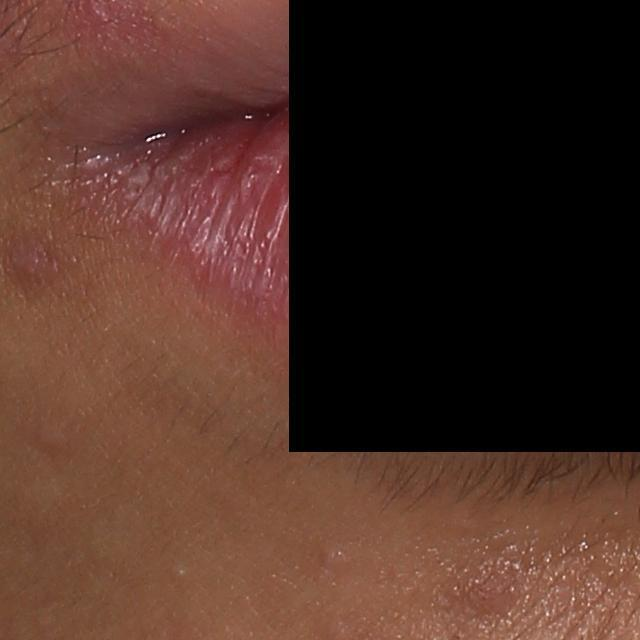comedo: (29, 420, 66, 452), (323, 546, 350, 570), (172, 567, 188, 579)
